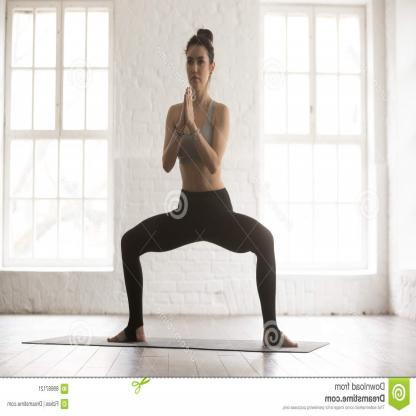godness: (96, 20, 306, 361)
